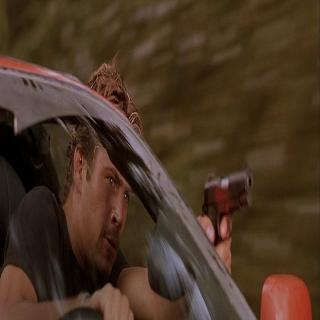gun: (201, 156, 253, 289)
